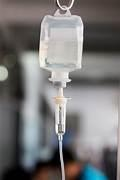Iv_Bottle: (39, 10, 82, 71)
